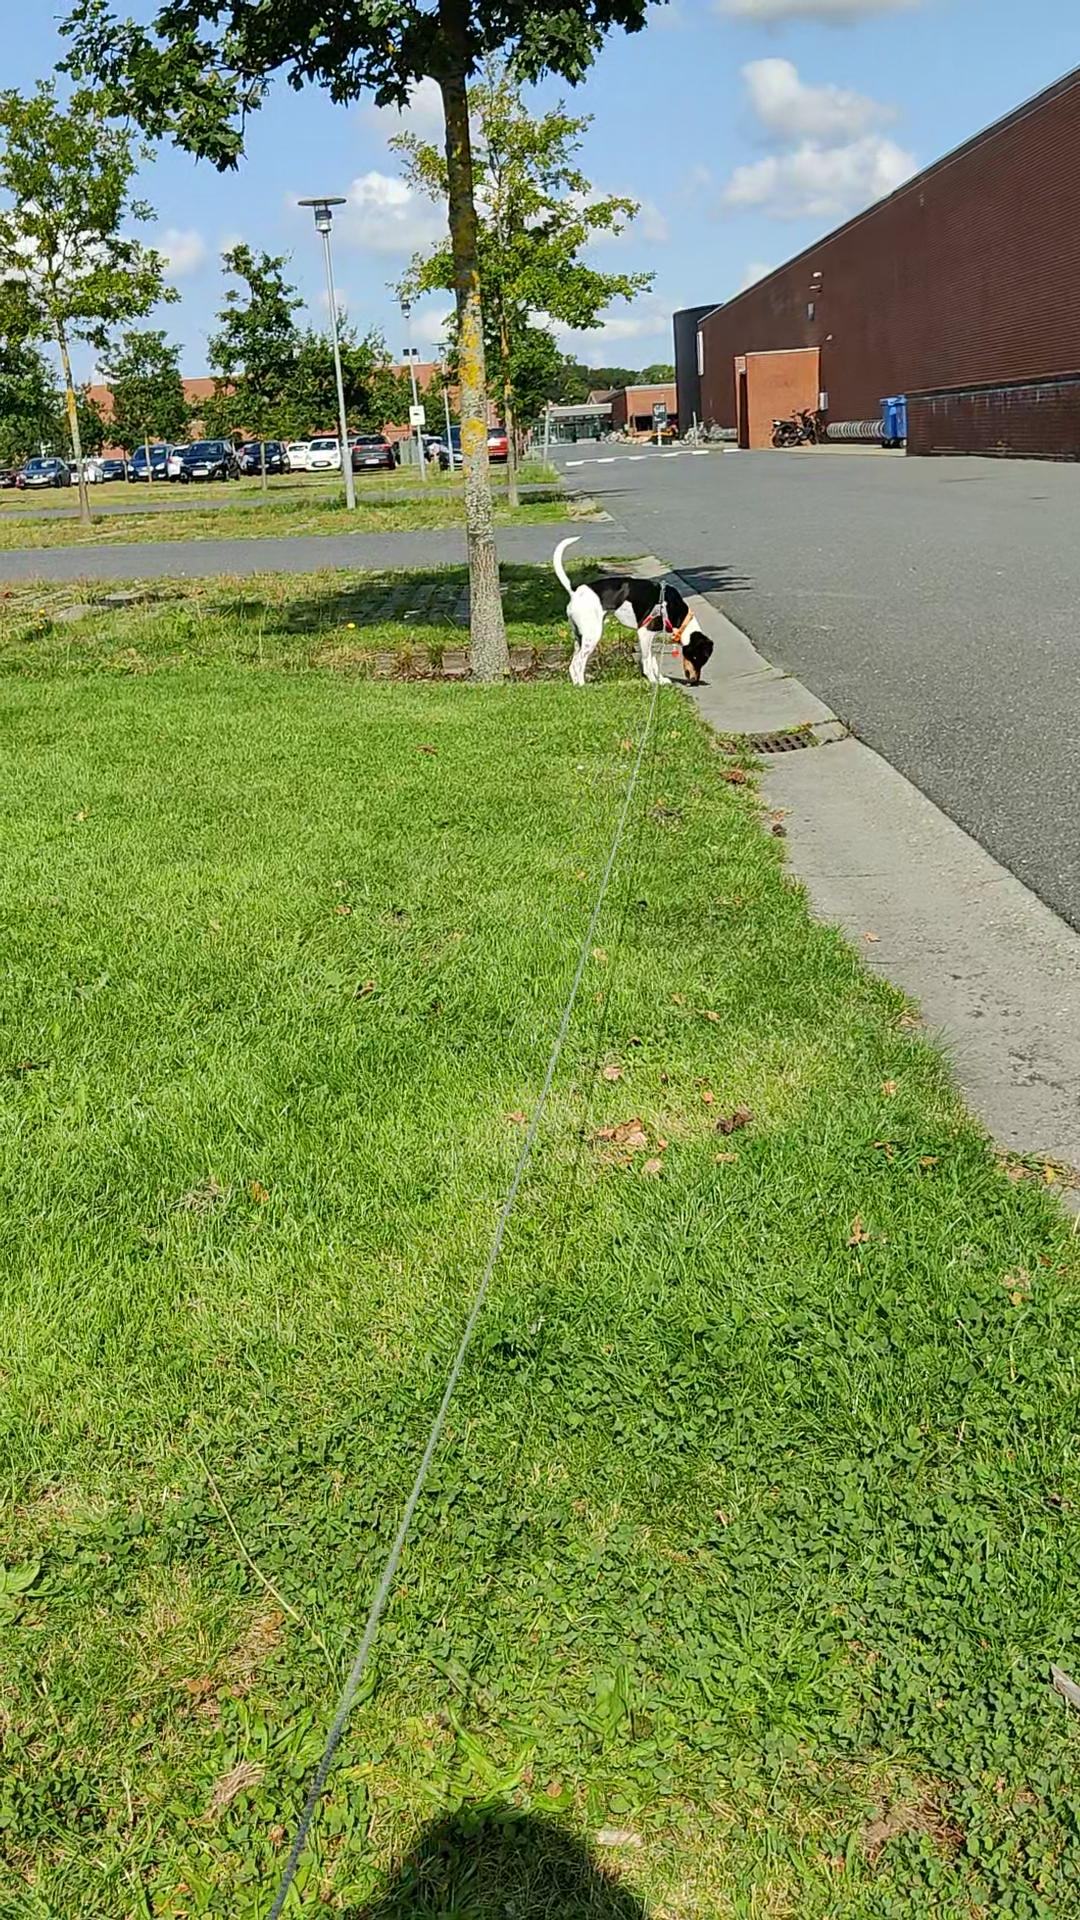Dog: (550, 533, 715, 688)
